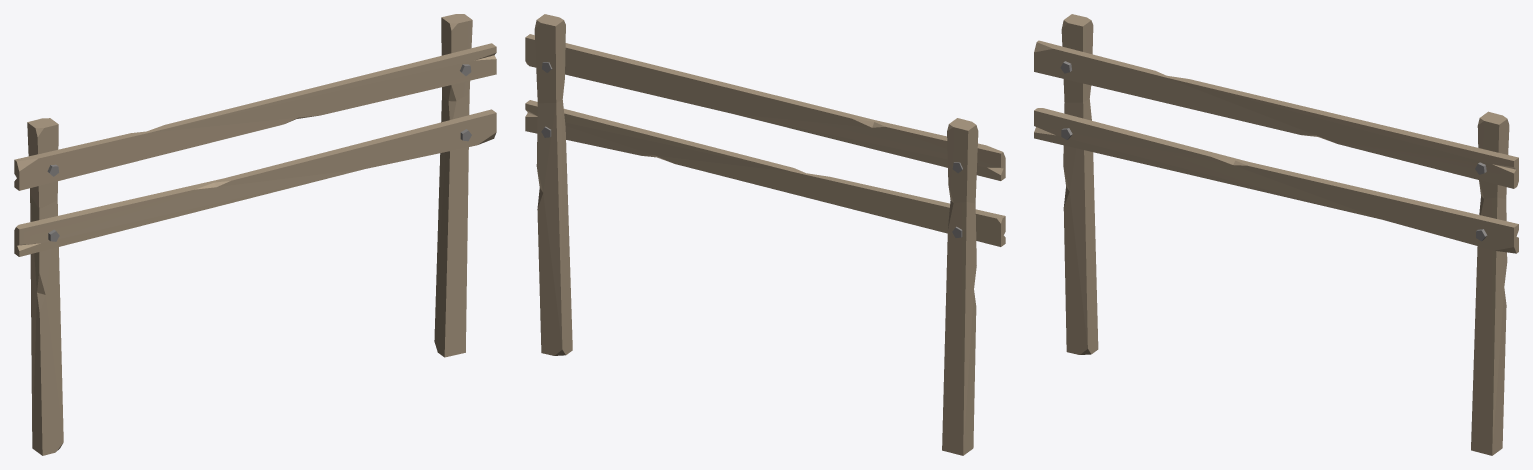
Rendered from prop_fence.gltf.
The picture shows the model from 3 angles, left to right: view 1: azimuth 30°, elevation 25°; view 2: azimuth 150°, elevation 25°; view 3: azimuth 330°, elevation 25°; orthographic projection.
Visible parts, largest first — view 1: prop_fence; view 2: prop_fence; view 3: prop_fence.
Boxes of the visible parts, x1,y1,x2,y2 form: prop_fence: [14, 14, 496, 455]; prop_fence: [525, 14, 1005, 455]; prop_fence: [1034, 14, 1518, 455].
Bounding box in the file's own units: 2.47 × 1.64 × 0.1567.
1 material, 1 textured.
